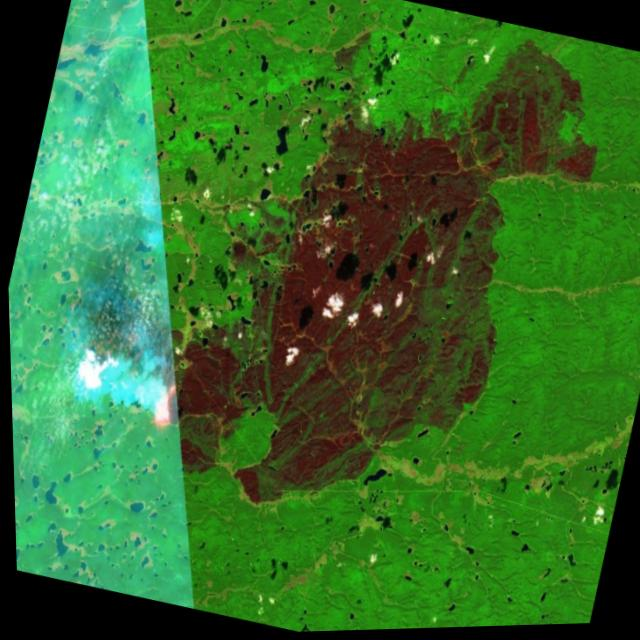fire: (136, 372, 186, 440)
